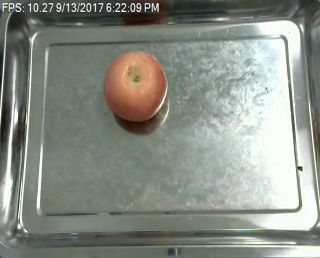Apple: (100, 50, 172, 123)
